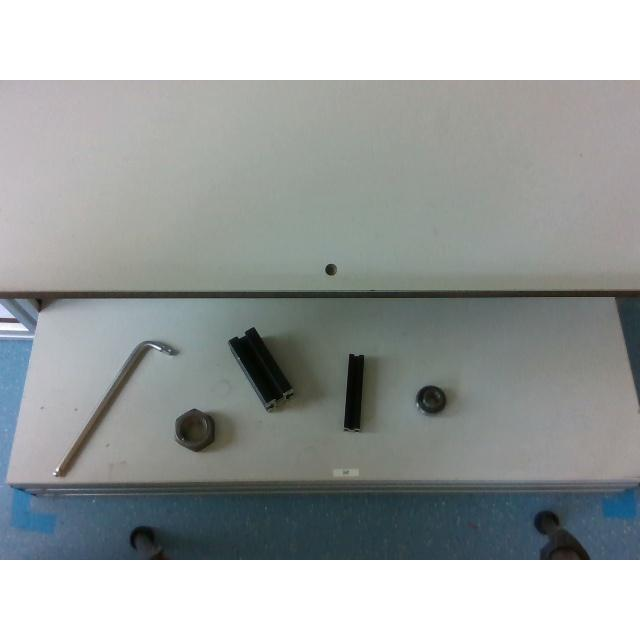AllenKey: (52, 340, 176, 476)
Bearing2: (415, 386, 447, 414)
F20_20_B: (344, 354, 364, 430)
M30: (174, 409, 214, 451)
S40_40_B: (228, 326, 292, 409)
